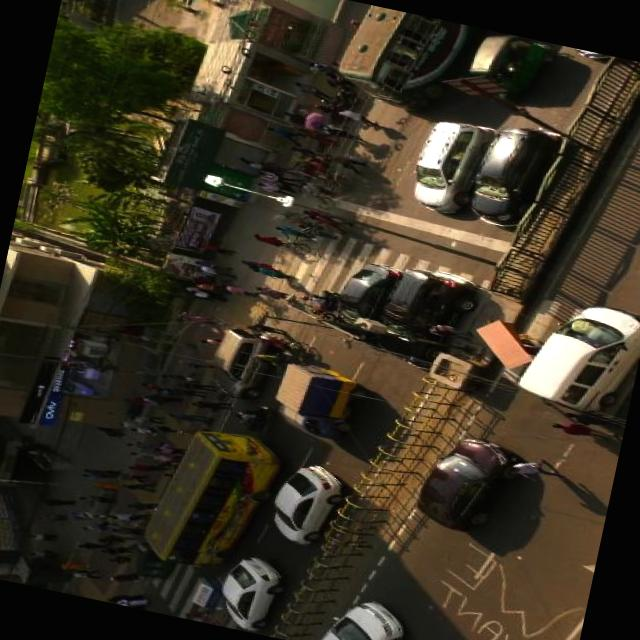bus: (136, 413, 287, 579), (326, 0, 471, 120)
car: (404, 423, 522, 541), (462, 111, 568, 240), (404, 109, 498, 222), (202, 314, 280, 402), (268, 452, 350, 522), (316, 587, 415, 640)
motorcycle: (454, 24, 566, 102), (274, 204, 334, 260), (304, 283, 340, 322)
truck: (507, 281, 640, 420), (264, 352, 372, 446)
